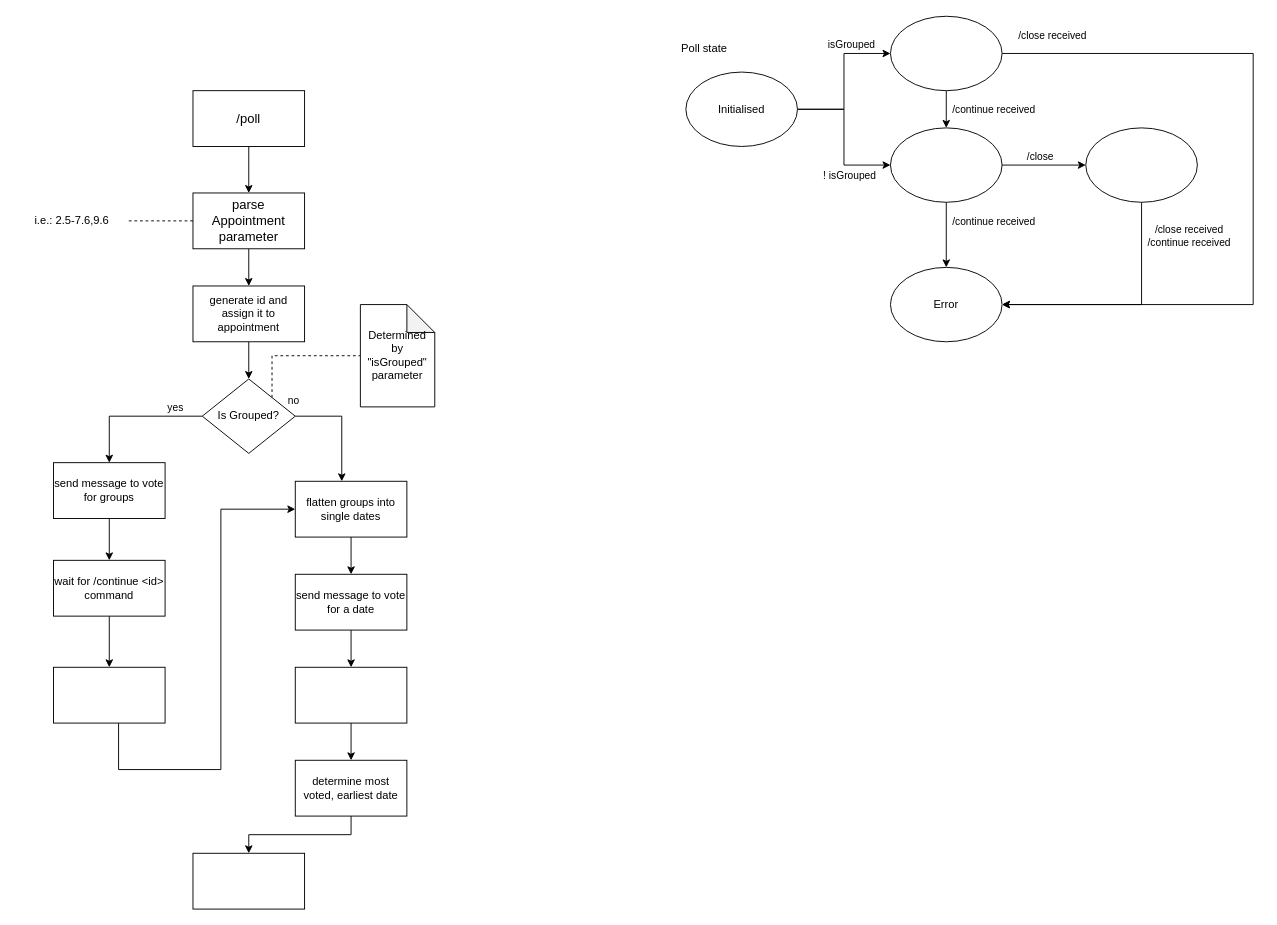
This 1277x925 diagram has some shape labels left out. The centre of each missing label's shape, as x and y in pixels:
"Closed" belongs at point 1141,164.
"determine most voted, earliest group" belongs at point 109,694.
"send message with selected date" belongs at point 248,880.
"wait for /close <id> command" belongs at point 350,694.
"Waiting for Close" belongs at point 946,164.
"Waiting for Continue" belongs at point 946,53.
